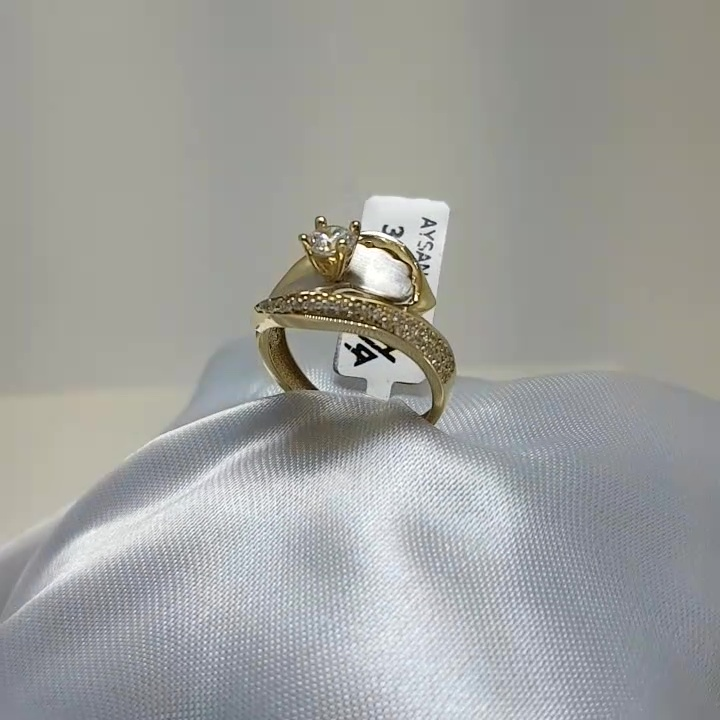Ring 6: (231, 202, 463, 440)
